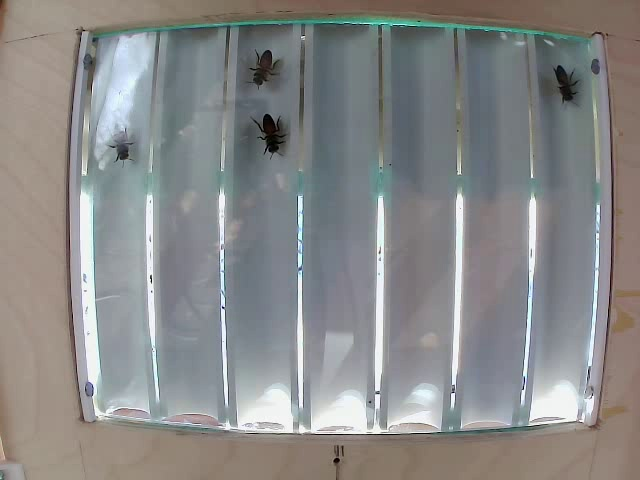bee: (243, 108, 287, 150), (251, 47, 295, 87), (556, 63, 578, 98)
